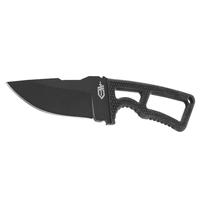knife: (5, 65, 195, 134)
